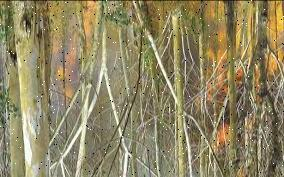fire: (211, 0, 284, 149)
